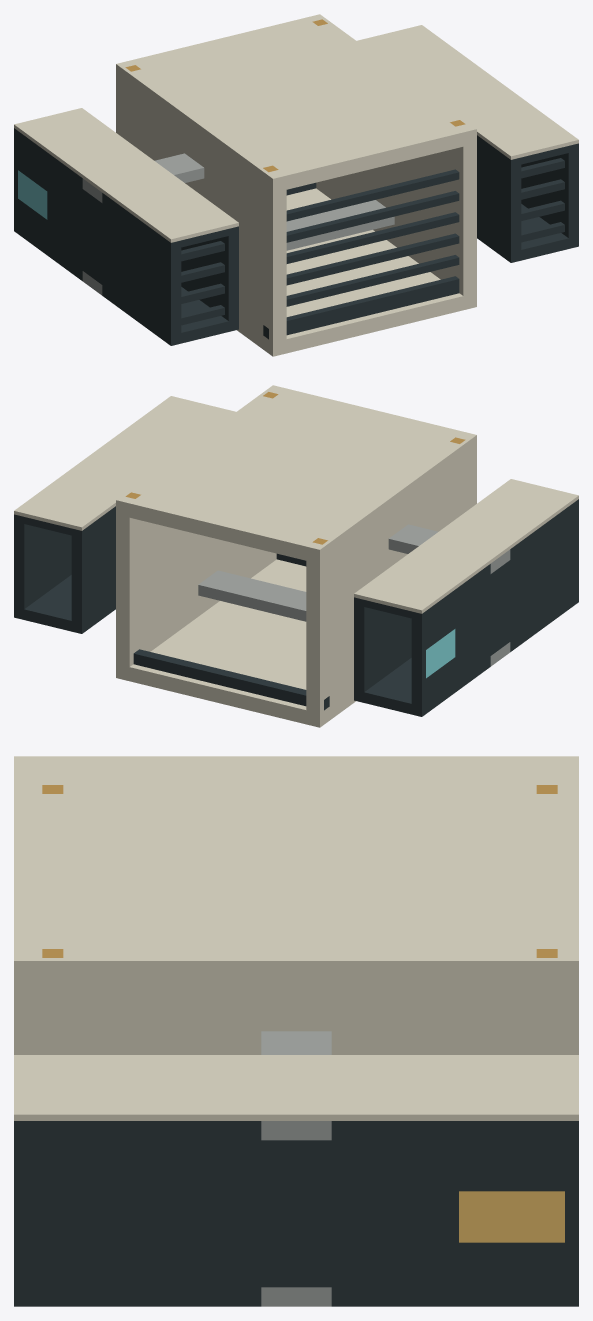
3 views of the same model, one above another, from view 1: azimuth 30°, elevation 25°; view 2: azimuth 150°, elevation 25°; view 3: azimuth 270°, elevation 25° (orthographic). The views are drawn at different scales.
Visible parts, largest first — view 1: 勤务飞机动力/暗色进出气体; view 2: 勤务飞机动力/暗色进出气体; view 3: 勤务飞机动力/暗色进出气体.
Part boxes in pixels (x1,y1,x2,y2): 勤务飞机动力/暗色进出气体: (14, 14, 578, 356); 勤务飞机动力/暗色进出气体: (14, 385, 578, 727); 勤务飞机动力/暗色进出气体: (14, 756, 578, 1306).
Size of the model in its own units: 2.4 by 1 by 1.6.
6 materials, 6 textured.
